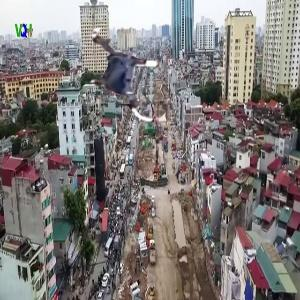drone: (70, 22, 178, 130)
